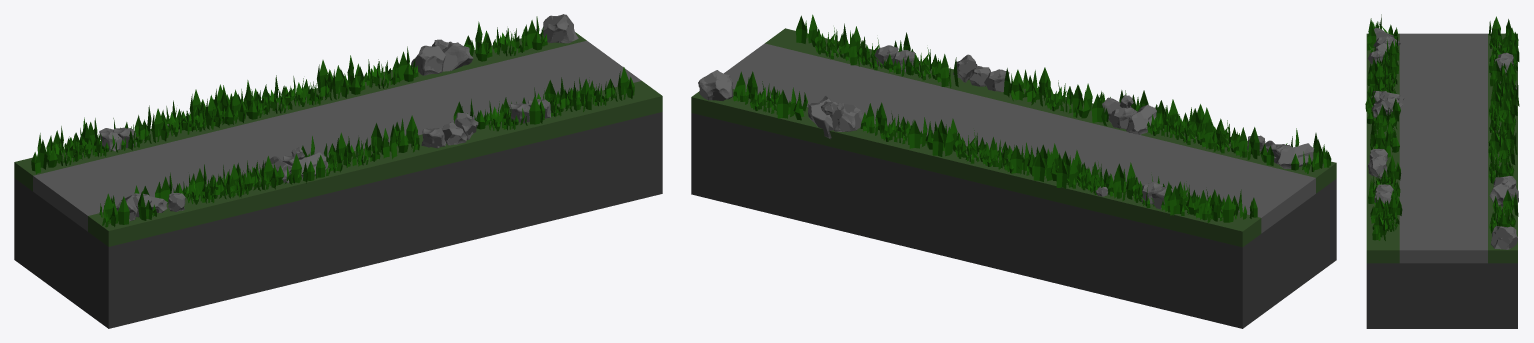
Rendered from Plattform3.fbx.
3 renders of one model, left to right at view 1: azimuth 30°, elevation 25°; view 2: azimuth 150°, elevation 25°; view 3: azimuth 270°, elevation 25°, orthographic. The views are drawn at different scales.
Parts seen in each view (by area): view 1: Cube, Cube.009, Cube.010, Cube.012; view 2: Cube, Cube.009, Cube.010, Cube.006, Cube.024, Cube.012; view 3: Cube, Cube.009, Cube.012, Cube.008, Cube.003, Cube.027, Cube.024, Cube.028, Cube.006, Cube.005, Cube.021, Cube.004 (+4 smaller).
Part boxes in pixels (x1=…): Cube: x1=14, y1=32, x2=662, y2=328; Cube.009: x1=543, y1=14, x2=578, y2=43; Cube.010: x1=411, y1=45, x2=445, y2=75; Cube.012: x1=442, y1=41, x2=473, y2=71; Cube: x1=691, y1=28, x2=1336, y2=328; Cube.009: x1=698, y1=70, x2=733, y2=100; Cube.010: x1=830, y1=103, x2=863, y2=131; Cube.006: x1=1275, y1=143, x2=1314, y2=168; Cube.024: x1=1126, y1=104, x2=1156, y2=134; Cube.012: x1=808, y1=96, x2=833, y2=138; Cube: x1=1366, y1=33, x2=1517, y2=328; Cube.009: x1=1491, y1=225, x2=1517, y2=249; Cube.012: x1=1489, y1=184, x2=1518, y2=206; Cube.008: x1=1369, y1=155, x2=1387, y2=178; Cube.003: x1=1372, y1=100, x2=1389, y2=118; Cube.027: x1=1374, y1=191, x2=1391, y2=205; Cube.024: x1=1371, y1=91, x2=1404, y2=107; Cube.028: x1=1367, y1=50, x2=1383, y2=64; Cube.006: x1=1374, y1=28, x2=1400, y2=46; Cube.005: x1=1369, y1=148, x2=1387, y2=162; Cube.021: x1=1494, y1=58, x2=1511, y2=75; Cube.004: x1=1373, y1=36, x2=1394, y2=47.
Bounding box in the file's own units: 7082 × 1551 × 2126.
